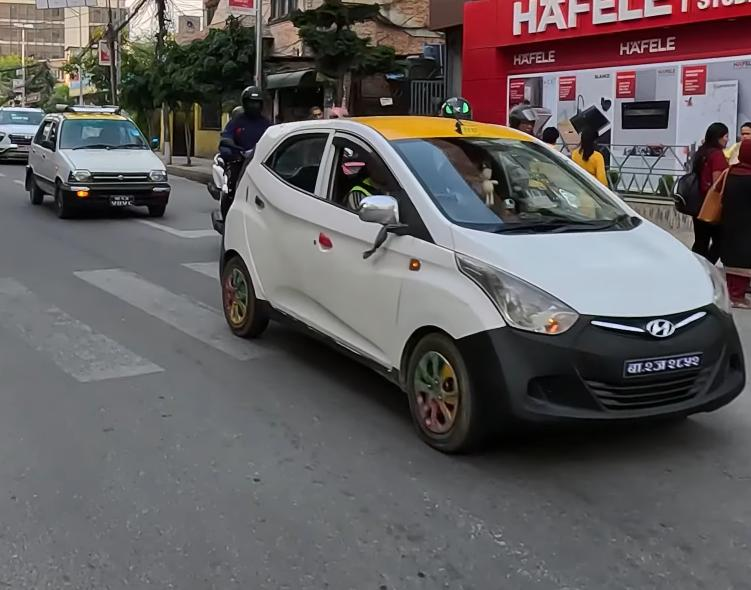car: (0, 103, 53, 166)
taxi: (218, 103, 751, 461), (18, 101, 185, 232)
